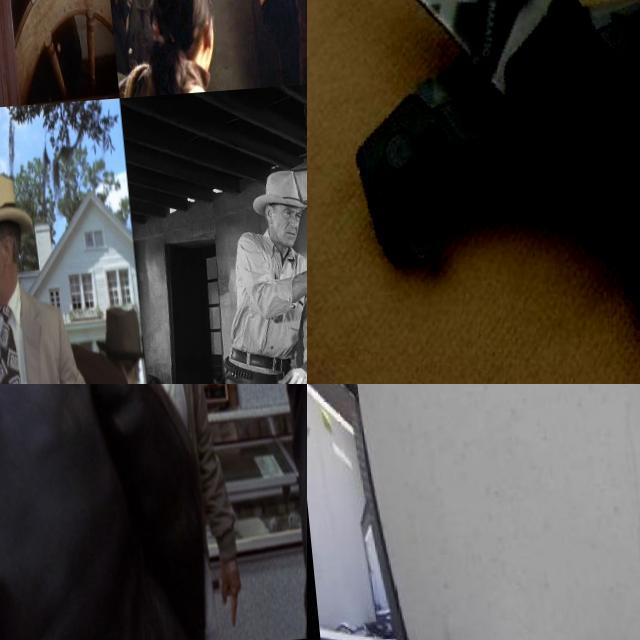-: (307, 0, 640, 384)
gun-knife-thesis - v11 Yolov5 augmented: (92, 384, 222, 474), (0, 26, 29, 98), (0, 243, 22, 331), (218, 0, 256, 45)
